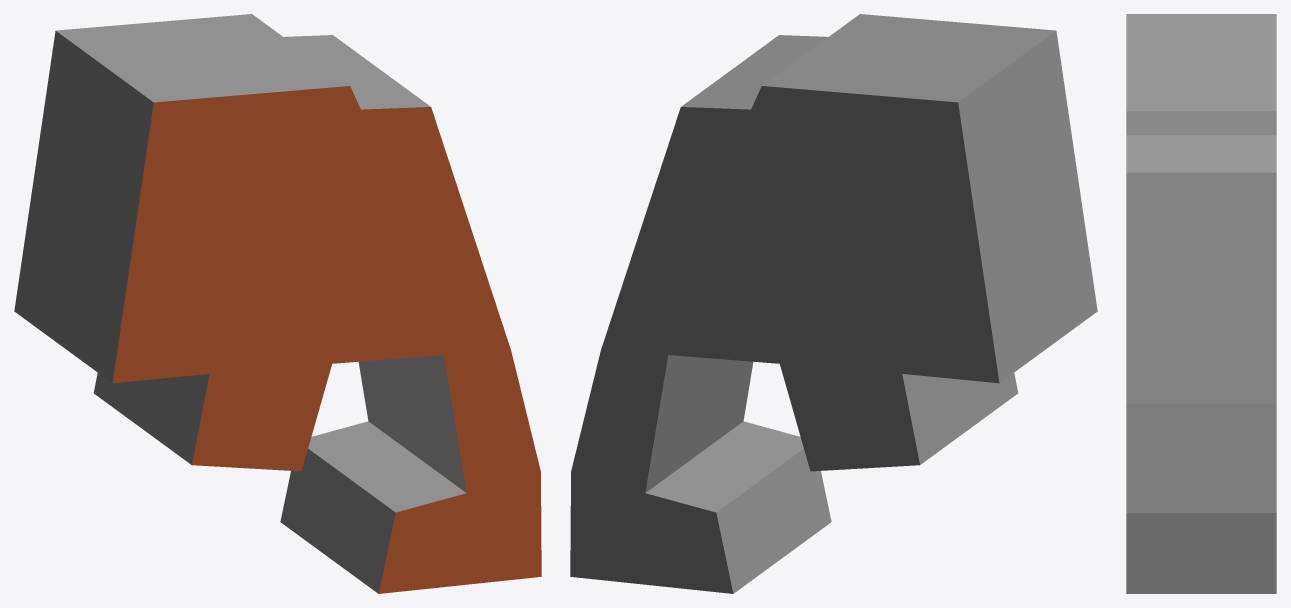
File: construction_1404_assumed_A_Casa_h6m.obj
The picture shows the model from 3 angles, left to right: view 1: azimuth 30°, elevation 25°; view 2: azimuth 150°, elevation 25°; view 3: azimuth 270°, elevation 25°; orthographic projection. The views are drawn at different scales.
Visible parts, largest first — view 1: construction_1404_assumed_A_Casa; view 2: construction_1404_assumed_A_Casa; view 3: construction_1404_assumed_A_Casa.
Part boxes in pixels (<box>): construction_1404_assumed_A_Casa: <box>14,14,541,593</box>; construction_1404_assumed_A_Casa: <box>570,14,1097,593</box>; construction_1404_assumed_A_Casa: <box>1126,14,1276,593</box>.
Size of the model in its own units: 15.13 by 19.17 by 6.
